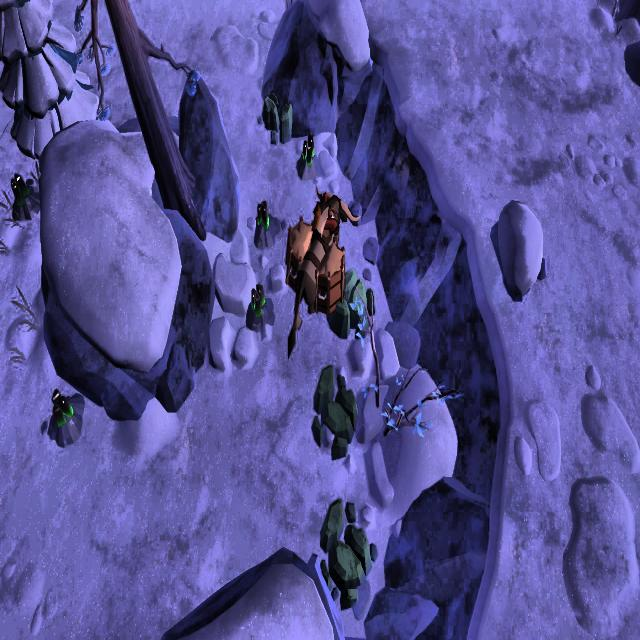ore_t3: (49, 387, 72, 427), (10, 170, 28, 204), (248, 282, 264, 316), (299, 134, 317, 164), (256, 196, 270, 229)
rock_t3: (313, 496, 378, 610), (308, 362, 359, 460), (324, 263, 379, 337), (259, 86, 294, 144)
